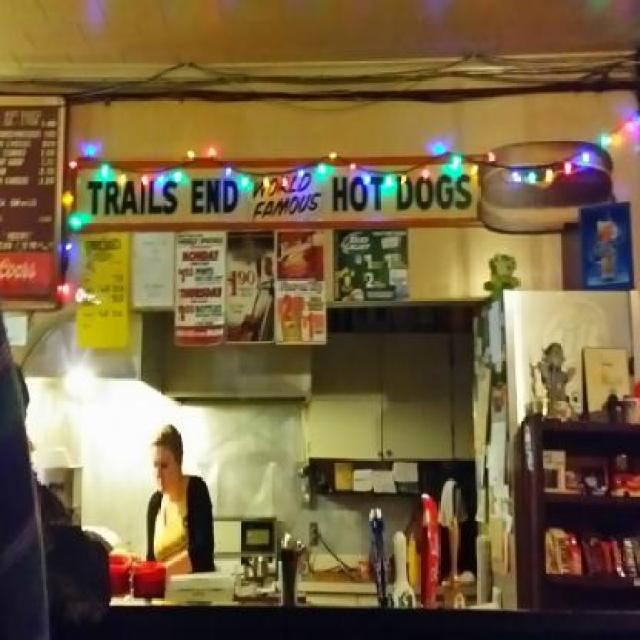Person: (145, 420, 218, 574)
